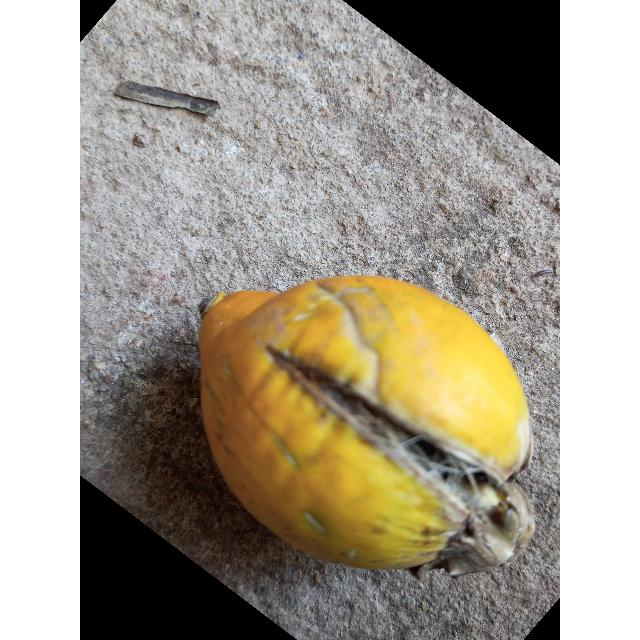damaged: (199, 276, 534, 577)
